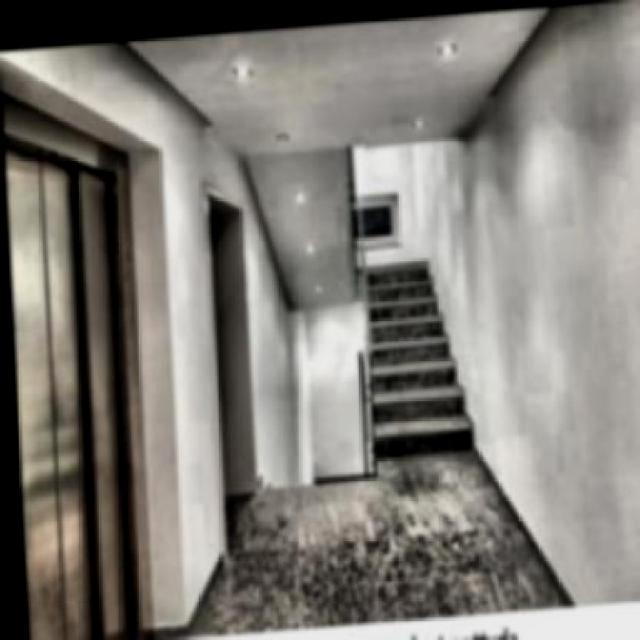stair: (356, 237, 476, 454)
